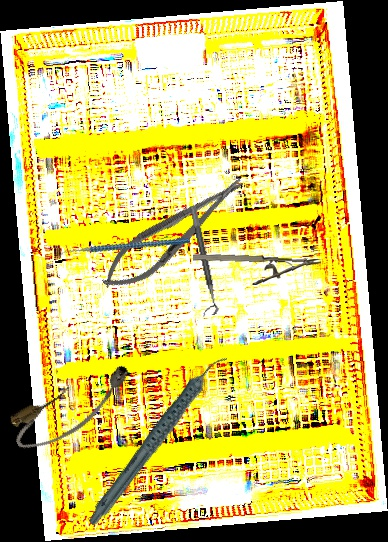Cannula: (3, 356, 143, 460)
Chopper: (54, 207, 191, 292)
Fixation Ring: (180, 205, 220, 318)
Handpiece: (59, 352, 258, 529)
Needle Holder: (92, 165, 255, 302), (191, 250, 321, 290)
